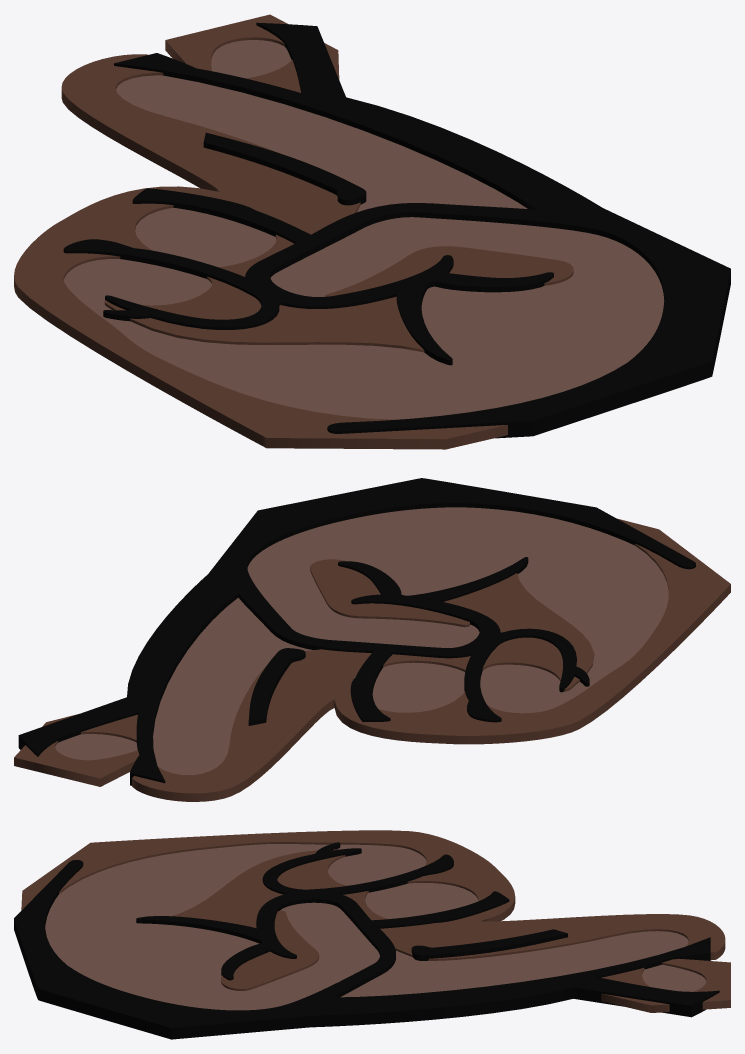
The model's file is emoji_u1f91e_1f3ff.glb.
3 renders of one model, top to bottom at view 1: azimuth 30°, elevation 25°; view 2: azimuth 150°, elevation 25°; view 3: azimuth 270°, elevation 25°, orthographic. The views are drawn at different scales.
Visible parts, largest first — view 1: emoji_u1f91e_1f3ff; view 2: emoji_u1f91e_1f3ff; view 3: emoji_u1f91e_1f3ff.
Part boxes in pixels (x1,y1,x2,y2): emoji_u1f91e_1f3ff: [14, 14, 730, 449]; emoji_u1f91e_1f3ff: [14, 478, 730, 801]; emoji_u1f91e_1f3ff: [14, 830, 730, 1039].
Bounding box in the file's own units: 0.0225 × 0.0008 × 0.0341.
